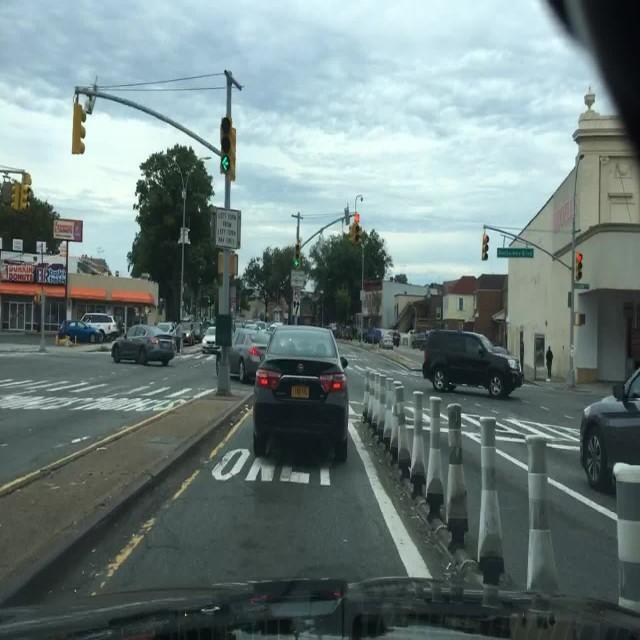normal: (241, 314, 369, 482), (409, 316, 539, 409), (100, 319, 186, 375)
